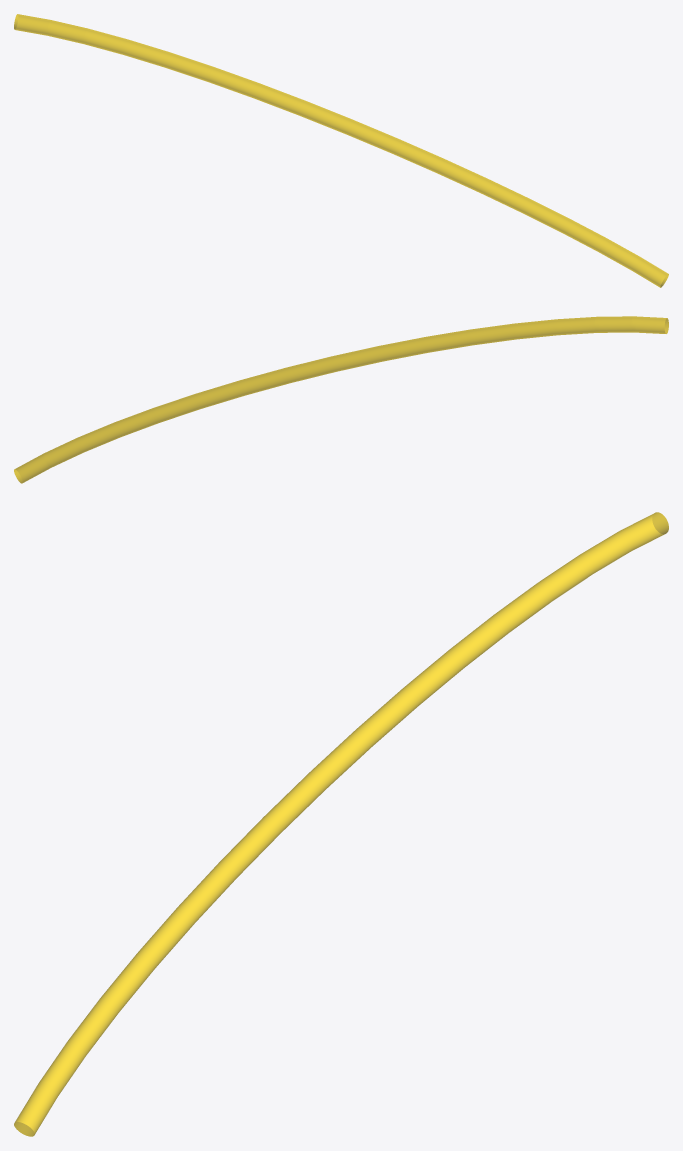
The model's file is Event_75125125_track_32.fbx.
3 renders of one model, top to bottom at view 1: azimuth 30°, elevation 25°; view 2: azimuth 210°, elevation 25°; view 3: azimuth 270°, elevation 25°, orthographic. The views are drawn at different scales.
Visible parts, largest first — view 1: Model; view 2: Model; view 3: Model.
Boxes of the visible parts, x1=… form: Model: x1=14, y1=14, x2=668, y2=287; Model: x1=14, y1=316, x2=668, y2=483; Model: x1=14, y1=512, x2=668, y2=1136.
Size of the model in its own units: 1.25 by 0.5927 by 1.1.
